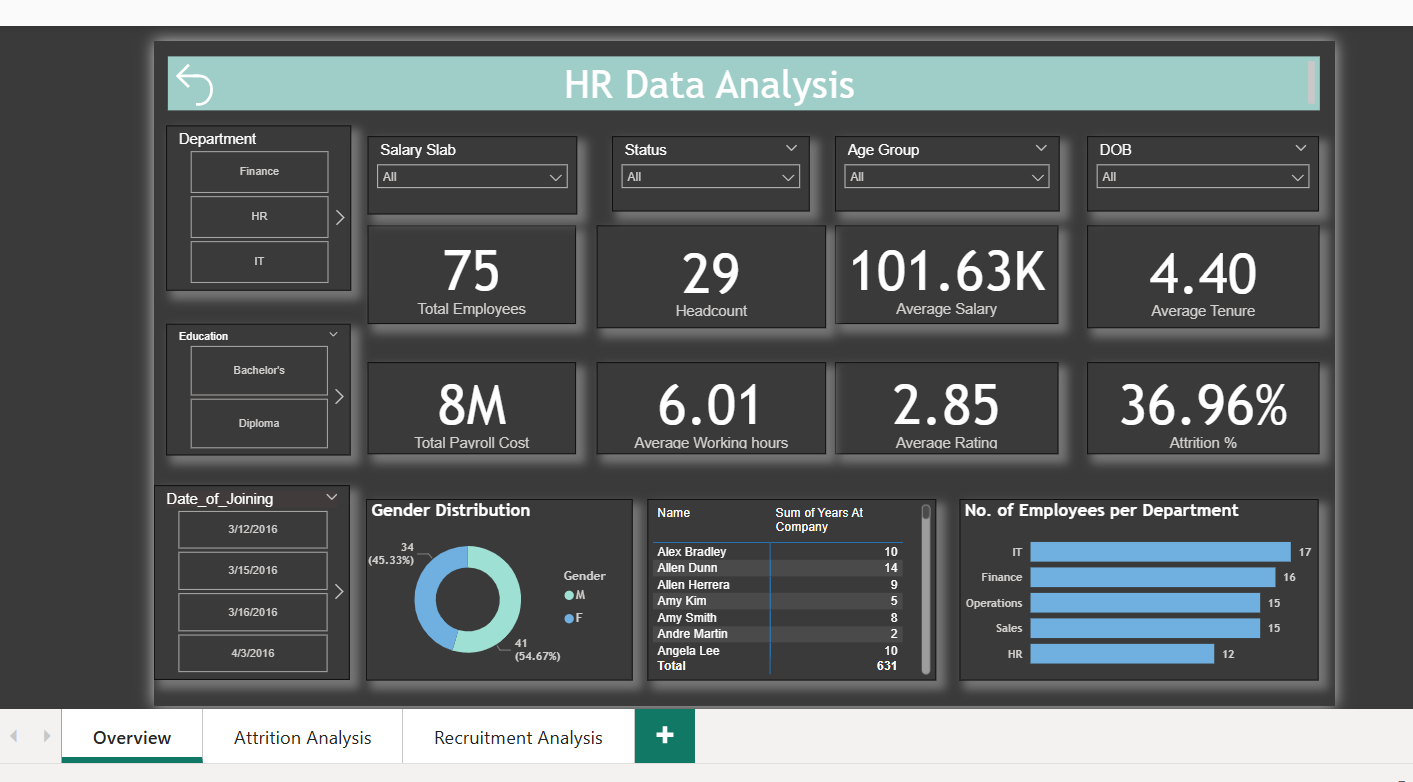

What the dashboard file says about the page in this screenshot:
{"tool":"powerbi","page":{"name":"Overview","canvas":[1280,720],"ordinal":0},"visuals":[{"type":"card","fields":{"Values":["Measures Table (2).Attrition %"]},"box":[1011.3,348.6,252,99.8],"z":0},{"type":"card","fields":{"Values":["Measures Table (2).Average Tenure"]},"box":[1011.3,199.6,252,111.3],"z":1000},{"type":"card","fields":{"Values":["Measures Table (2).Average Salary"]},"box":[738,199.6,242.2,106.4],"z":2000},{"type":"card","fields":{"Values":["Measures Table (2).Headcount"]},"box":[479.5,199.6,248.7,111.3],"z":3000},{"type":"donutChart","title":"Gender Distribution","fields":{"Category":["Employees.Gender"],"Y":["Employees.Gender"]},"box":[230.2,496,288.5,196.1],"z":4000},{"type":"barChart","title":"No. of Employees per Department","fields":{"Category":["Employees.Department"],"Y":["Employees.Employee_ID"]},"box":[873.7,496,389,196.1],"z":5000},{"type":"card","fields":{"Values":["Measures Table (2).Average Rating"]},"box":[738,348.6,242.2,99.8],"z":6000},{"type":"card","fields":{"Values":["Measures Table (2).Total Payroll Cost"]},"box":[232.4,348.6,225.8,99.8],"z":7000},{"type":"card","fields":{"Values":["Employees.Employee_ID"]},"box":[232.4,199.6,225.8,106.4],"z":8000},{"type":"card","fields":{"Values":["Measures Table (2).Average Working hours"]},"box":[479.5,348.6,248.7,99.8],"z":9000},{"type":"slicer","fields":{"Values":["Employees.Status"]},"box":[496,103.7,214,81],"z":10000},{"type":"textbox","box":[14.6,17.5,1248.6,58.3],"z":11000},{"type":"actionButton","box":[14.6,17.8,100.5,58.4],"z":12000},{"type":"slicer","fields":{"Values":["Employees.Department"]},"box":[12.8,91.5,200,178.7],"z":13000},{"type":"slicer","fields":{"Values":["Employees.Education"]},"box":[13,306.4,199.4,142.6],"z":14000},{"type":"slicer","fields":{"Values":["Employees.Date_of_Joining"]},"box":[0,481.4,212.3,210.7],"z":15000},{"type":"pivotTable","fields":{"Values":["Employees.Years At Company"],"Rows":["Employees.Name"]},"box":[534.9,496,312.8,196.1],"z":16000},{"type":"slicer","fields":{"Values":["Employees.Salary Slab"]},"box":[231.8,103.7,226.9,84.3],"z":17000},{"type":"slicer","fields":{"Values":["Employees.Age Group"]},"box":[737.5,103.7,243.1,81],"z":18000},{"type":"slicer","fields":{"Values":["Employees.DOB"]},"box":[1011.5,103.7,251.2,81],"z":19000}]}

Visuals, with their boxes on the page's 1280x720 design canvas (x1, y1, x2, y2). These are canvas units, not pixel positions in the 1413x782 screenshot, which may show the page scaled, cropped or inside an application window:
card - Measures Table (2).Attrition %: x1=1011 y1=349 x2=1263 y2=448
card - Measures Table (2).Average Tenure: x1=1011 y1=200 x2=1263 y2=311
card - Measures Table (2).Average Salary: x1=738 y1=200 x2=980 y2=306
card - Measures Table (2).Headcount: x1=480 y1=200 x2=728 y2=311
"Gender Distribution" donutChart: x1=230 y1=496 x2=519 y2=692
"No. of Employees per Department" barChart: x1=874 y1=496 x2=1263 y2=692
card - Measures Table (2).Average Rating: x1=738 y1=349 x2=980 y2=448
card - Measures Table (2).Total Payroll Cost: x1=232 y1=349 x2=458 y2=448
card - Employees.Employee_ID: x1=232 y1=200 x2=458 y2=306
card - Measures Table (2).Average Working hours: x1=480 y1=349 x2=728 y2=448
slicer - Employees.Status: x1=496 y1=104 x2=710 y2=185
textbox: x1=15 y1=18 x2=1263 y2=76
actionButton: x1=15 y1=18 x2=115 y2=76
slicer - Employees.Department: x1=13 y1=92 x2=213 y2=270
slicer - Employees.Education: x1=13 y1=306 x2=212 y2=449
slicer - Employees.Date_of_Joining: x1=0 y1=481 x2=212 y2=692
pivotTable - Employees.Years At Company x Employees.Name: x1=535 y1=496 x2=848 y2=692
slicer - Employees.Salary Slab: x1=232 y1=104 x2=459 y2=188
slicer - Employees.Age Group: x1=738 y1=104 x2=981 y2=185
slicer - Employees.DOB: x1=1012 y1=104 x2=1263 y2=185
